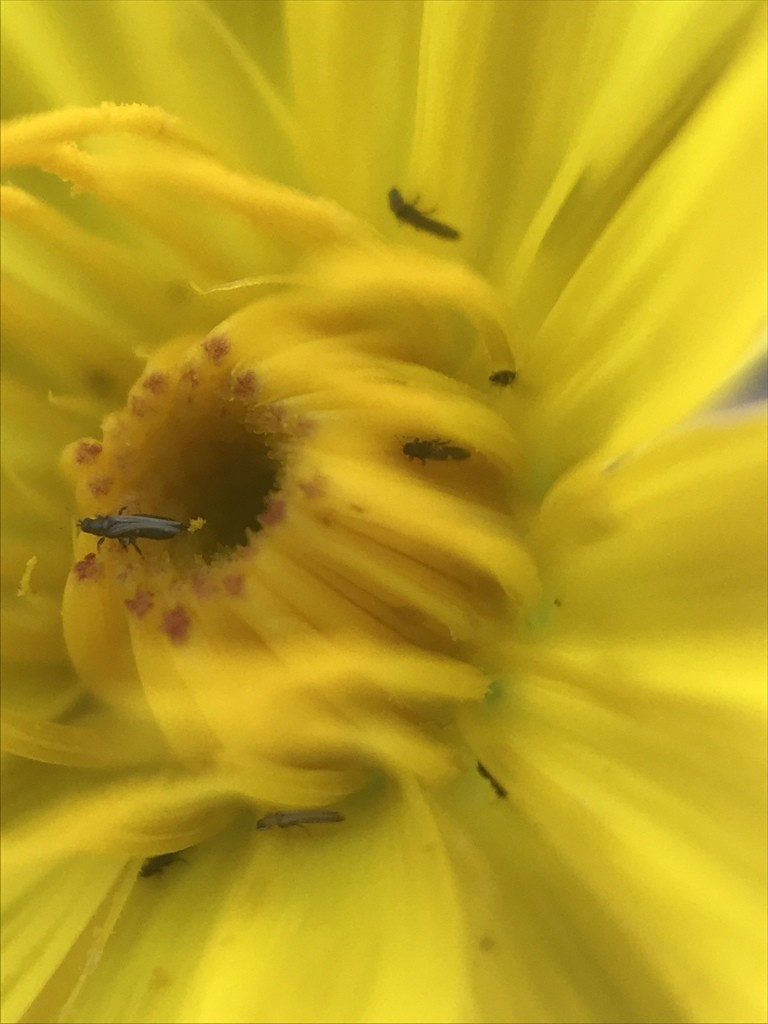Thripidae: (71, 504, 192, 557), (383, 182, 466, 244), (397, 421, 470, 473), (249, 804, 352, 837), (134, 851, 196, 892), (471, 750, 512, 802)
